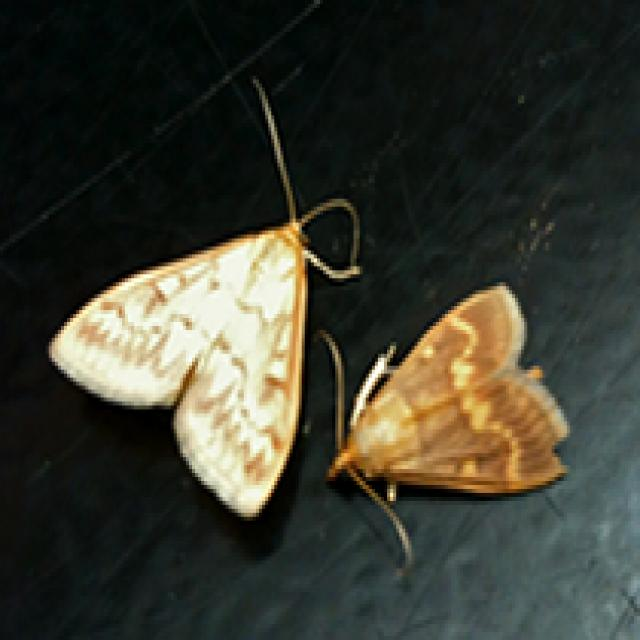cornborer-Adult-: (43, 200, 336, 529), (319, 276, 581, 504)
